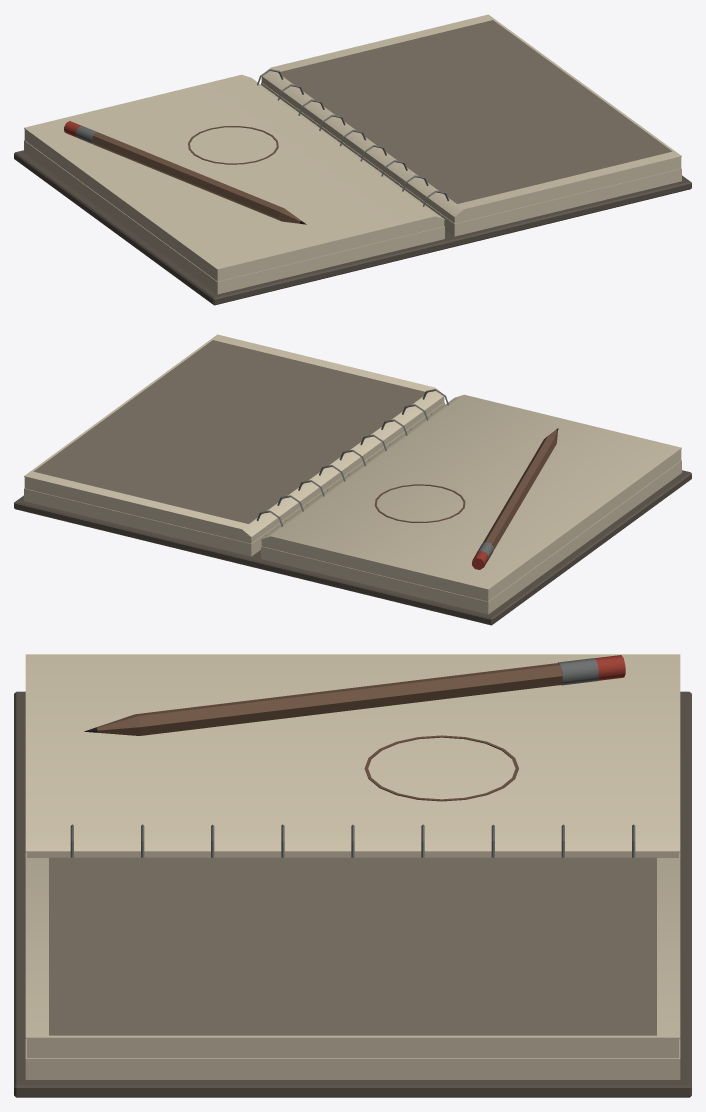
File: kitchen-notebook-d9ddafe0a884.glb
3 renders of one model, top to bottom at view 1: azimuth 30°, elevation 25°; view 2: azimuth 150°, elevation 25°; view 3: azimuth 270°, elevation 25°, orthographic. The views are drawn at different scales.
Visible parts, largest first — view 1: paper, cover-print, fabric, wood, metal; view 2: paper, cover-print, fabric, wood, metal; view 3: paper, cover-print, fabric, wood, metal.
Part boxes in pixels (x1,y1,x2,y2): paper: (24, 14, 681, 294); cover-print: (278, 20, 672, 203); fabric: (14, 150, 691, 305); wood: (91, 126, 301, 223); metal: (75, 69, 448, 216); paper: (24, 334, 681, 614); cover-print: (33, 340, 427, 523); fabric: (14, 470, 691, 625); wood: (374, 430, 557, 550); metal: (257, 389, 493, 560); paper: (25, 654, 680, 1079); cover-print: (49, 857, 656, 1035); fabric: (14, 691, 691, 1097); wood: (96, 663, 562, 801); metal: (70, 658, 635, 857).
Size of the model in its own units: 0.2 by 0.0179 by 0.145.
